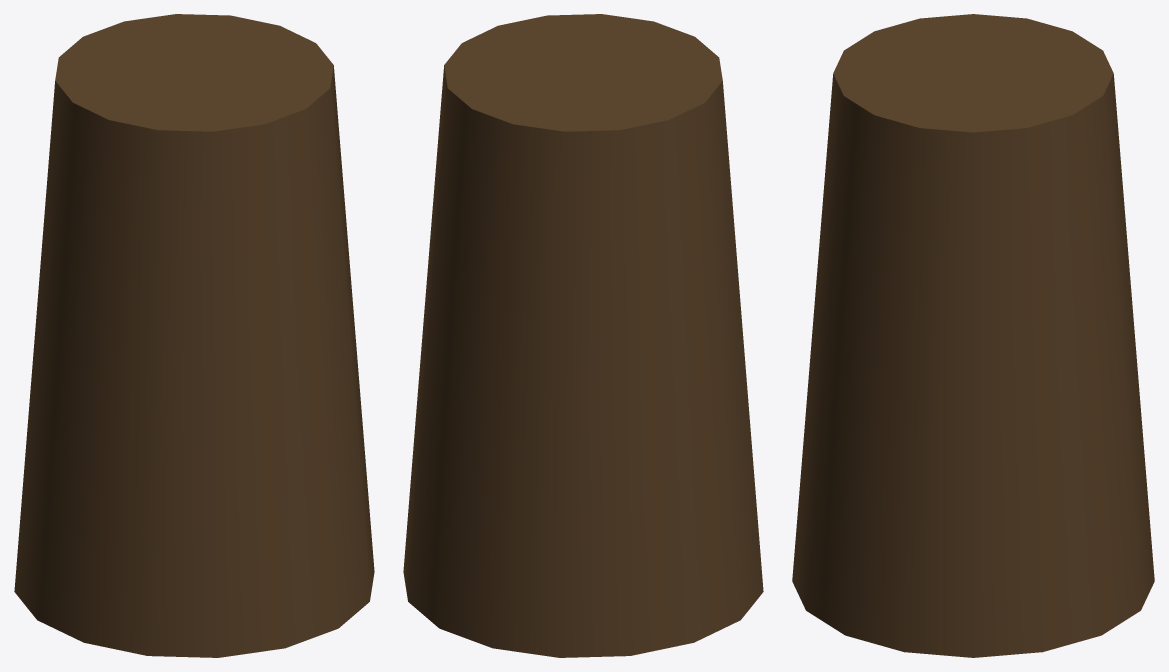
The model's file is trunk-lower.glb.
3 views of the same model, side by side, from view 1: azimuth 30°, elevation 25°; view 2: azimuth 150°, elevation 25°; view 3: azimuth 270°, elevation 25° (orthographic).
Visible parts, largest first — view 1: Trunk Lower; view 2: Trunk Lower; view 3: Trunk Lower.
Part boxes in pixels (x1=…): Trunk Lower: x1=14, y1=14, x2=374, y2=657; Trunk Lower: x1=403, y1=14, x2=763, y2=657; Trunk Lower: x1=792, y1=14, x2=1154, y2=657.
Bounding box in the file's own units: 25.37 × 39.24 × 25.37.
